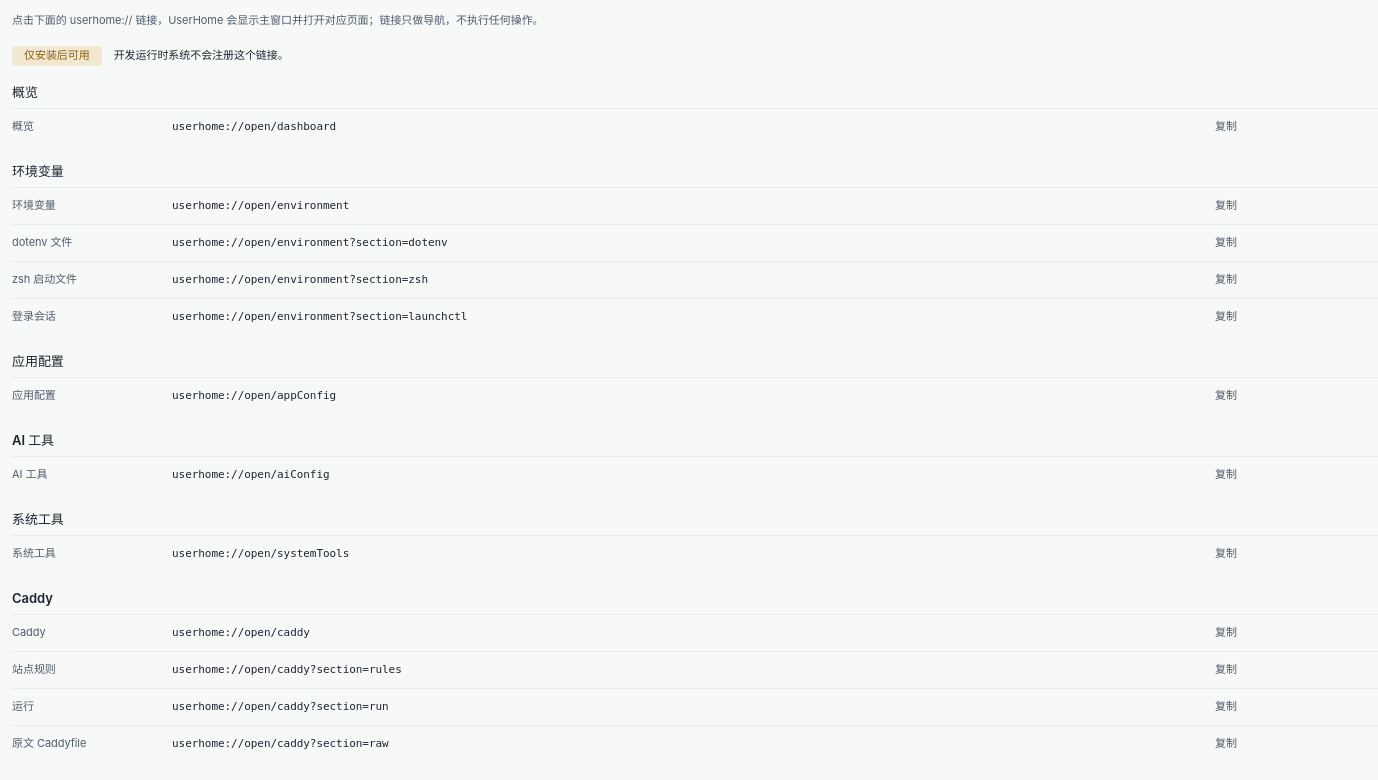
Scenario: DeepLinkSettings › explains a failed copy on the row that failed
This screenshot has width=1378, height=780.
Click the button "复制" in the row of "zsh 启动文件". click: point(1226, 280)
box: [1202,268,1250,292]
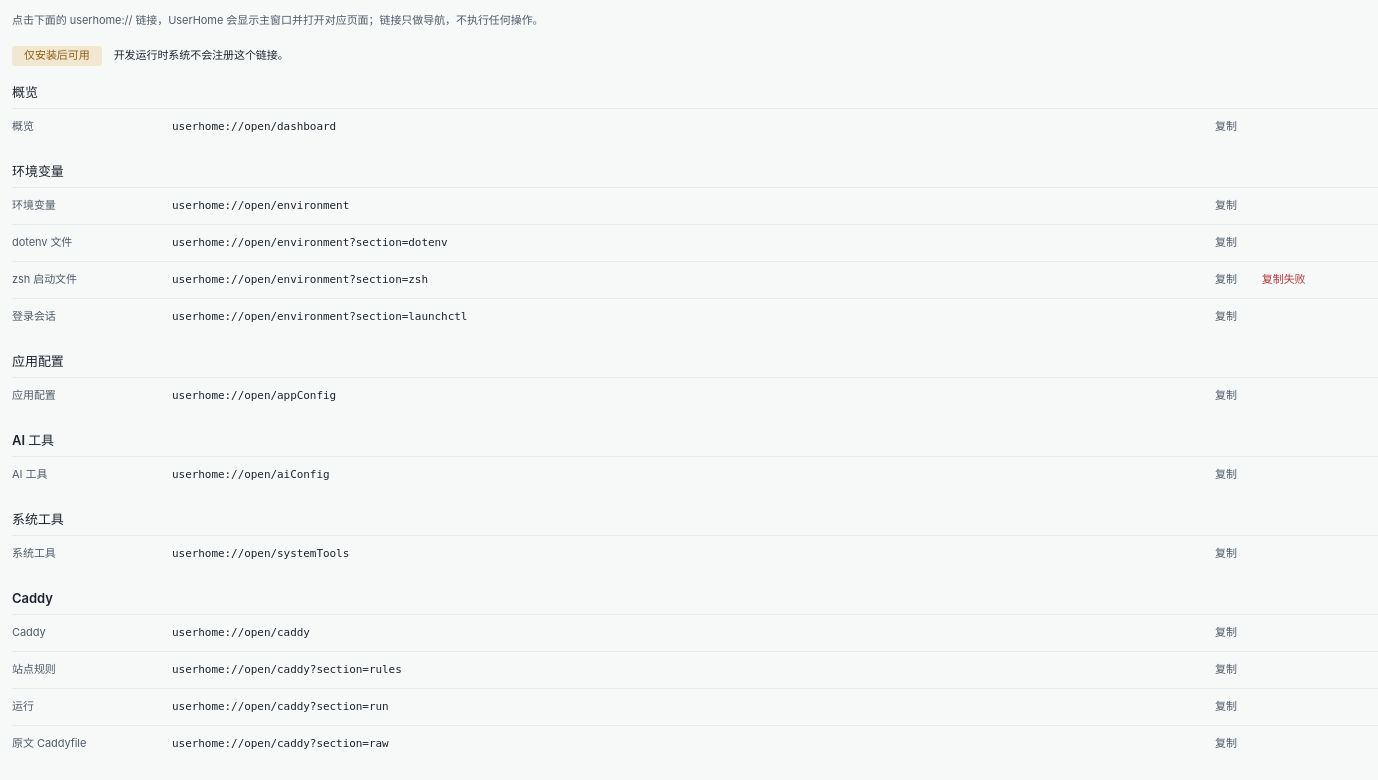
Check: the message reads "复制失败", box [1262,272,1306,286]
